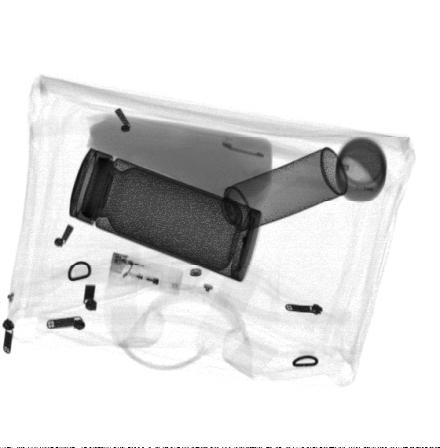Lighter: (108, 252, 185, 296)
Sprayer: (203, 147, 349, 241)
